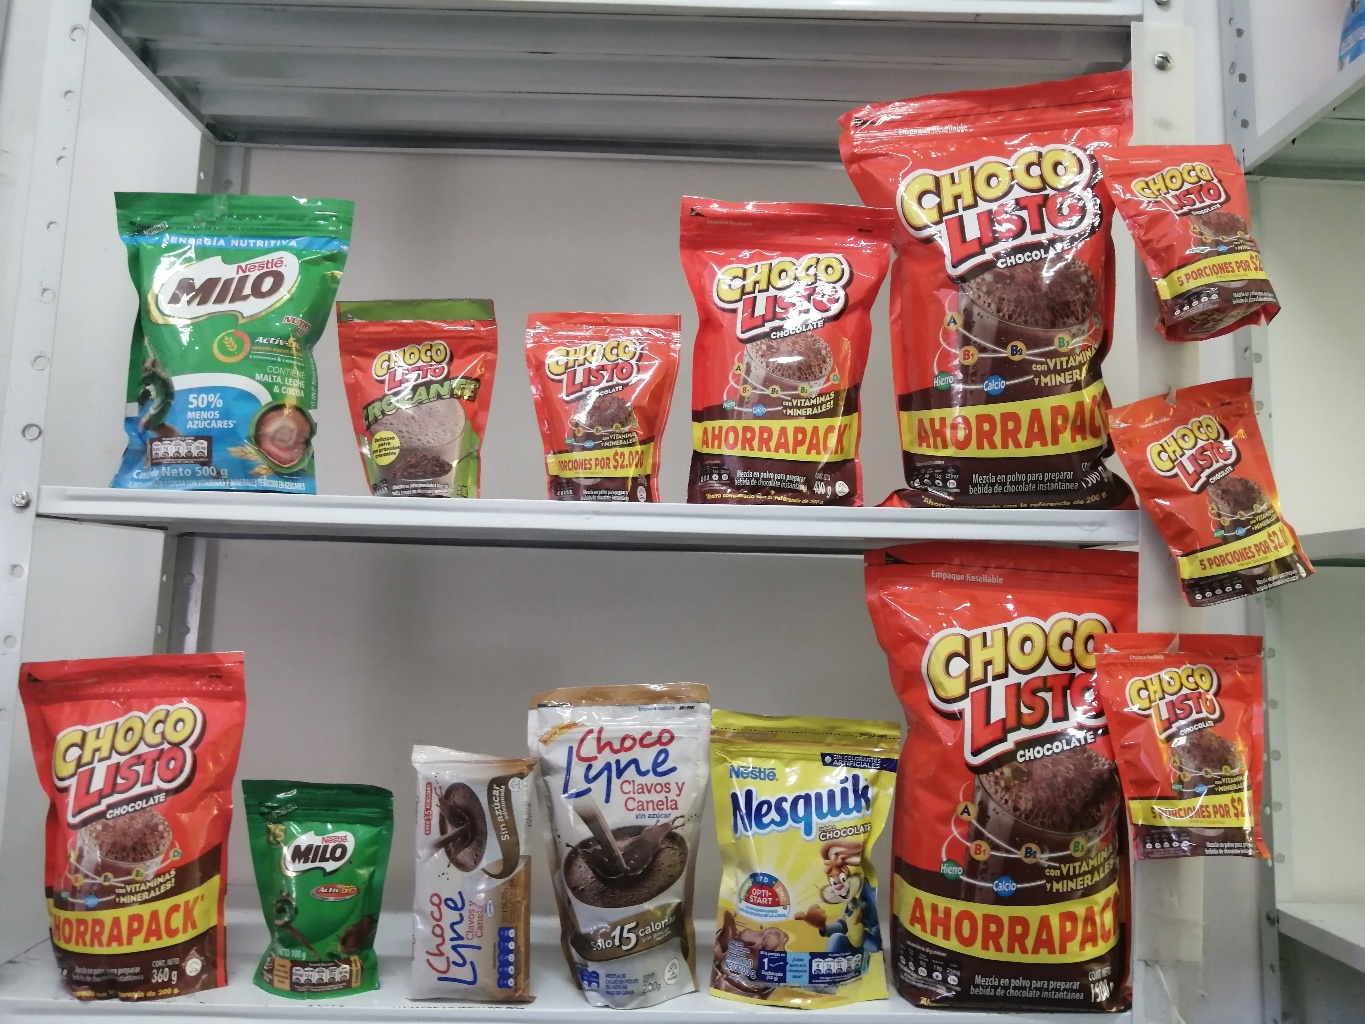COL0170102DYP10000: (317, 270, 518, 520)
COL0170103DYP1,500: (823, 56, 1160, 511)
COL0170103DYP10000: (1077, 119, 1321, 362)
COL0170103DYP36000: (1, 628, 256, 1007)
COL0170103DYP40000: (670, 172, 911, 517)
COL0170203DYP10000: (224, 756, 413, 1013)
COL0170205DYP50000: (81, 163, 350, 507)
COL0170303DYP20000: (683, 685, 913, 1013)
